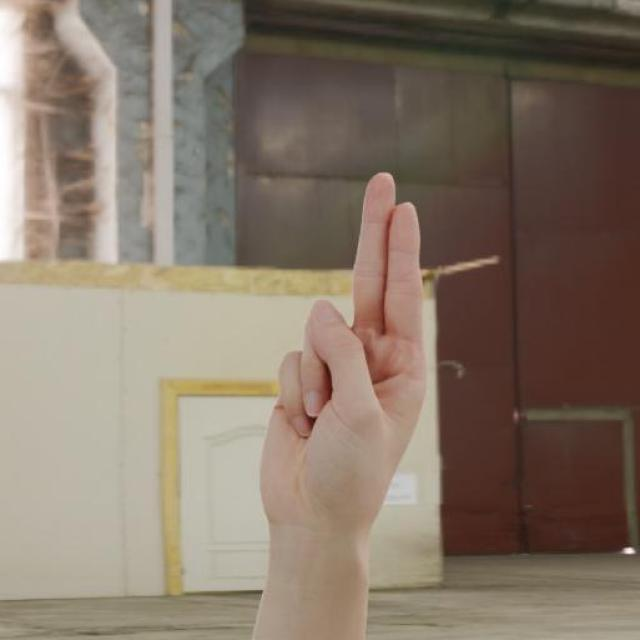U: (244, 161, 431, 530)
